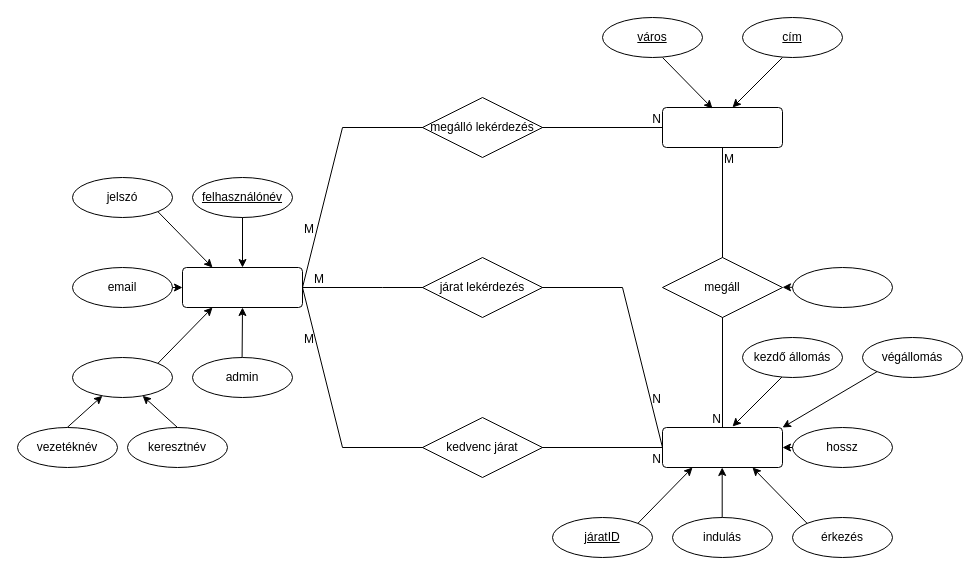
This 980x575 diagram has some shape labels left out. Here are the shapes that lost their labels. From the top down, the centre of each, then its label:
At point (722, 127): "Megálló".
At point (242, 287): "Felhasználó".
At point (842, 287): "idő".
At point (122, 377): "név".
At point (722, 447): "Járat".
